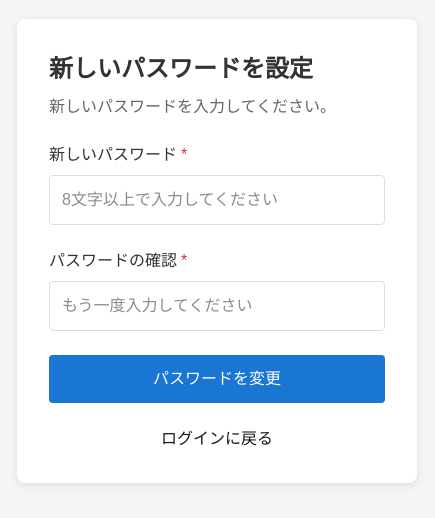
PasswordResetConfirmPage › Password validation › shows error for password shorter than 8 characters
Step 1. Type "short1" into the password field labelled "新しいパスワード*" → coordinates (217, 200), box [49,175,385,225]
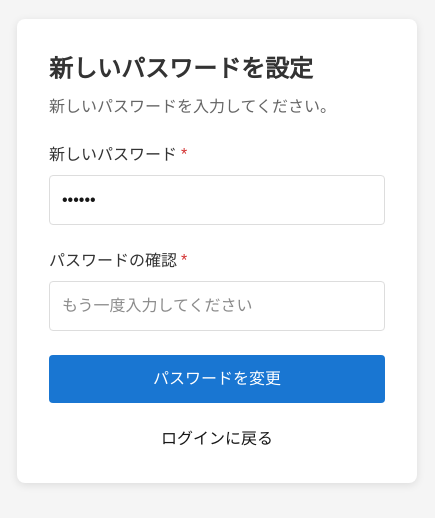
Step 2. Type "short1" into the password field labelled "パスワードの確認*" → coordinates (217, 306), box [49,281,385,331]
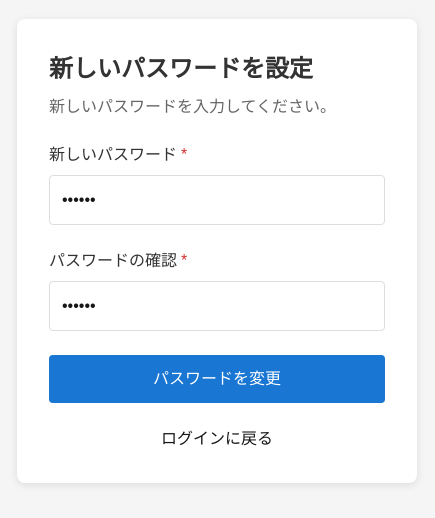
Step 3. Click the button "パスワードを変更" → coordinates (217, 379), box [49,355,385,403]
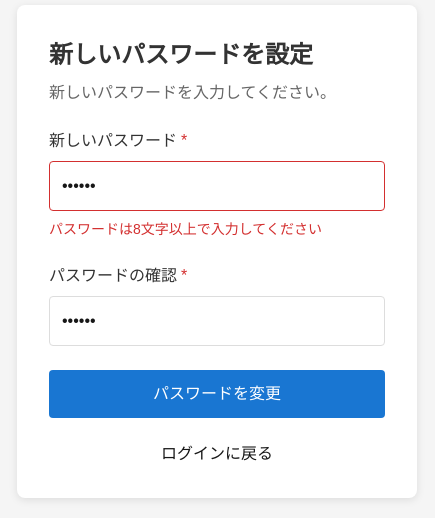
Now the text "パスワードは8文字以上で入力してください" is shown, box [49,220,322,236]
